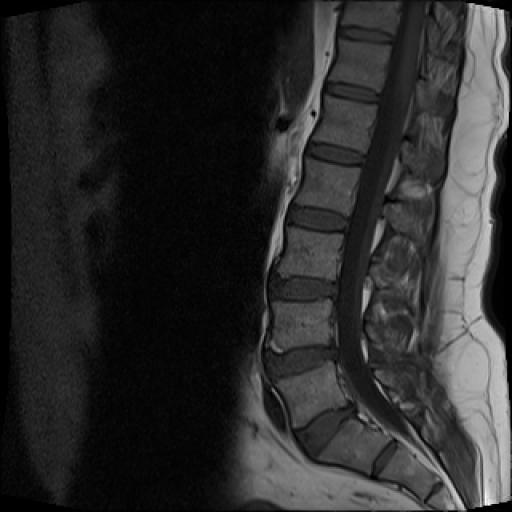L1: (312, 94, 378, 154)
L2: (295, 157, 361, 216)
L3: (280, 227, 343, 280)
L4: (267, 299, 335, 354)
L5: (276, 363, 347, 428)
S1: (316, 418, 395, 476)
